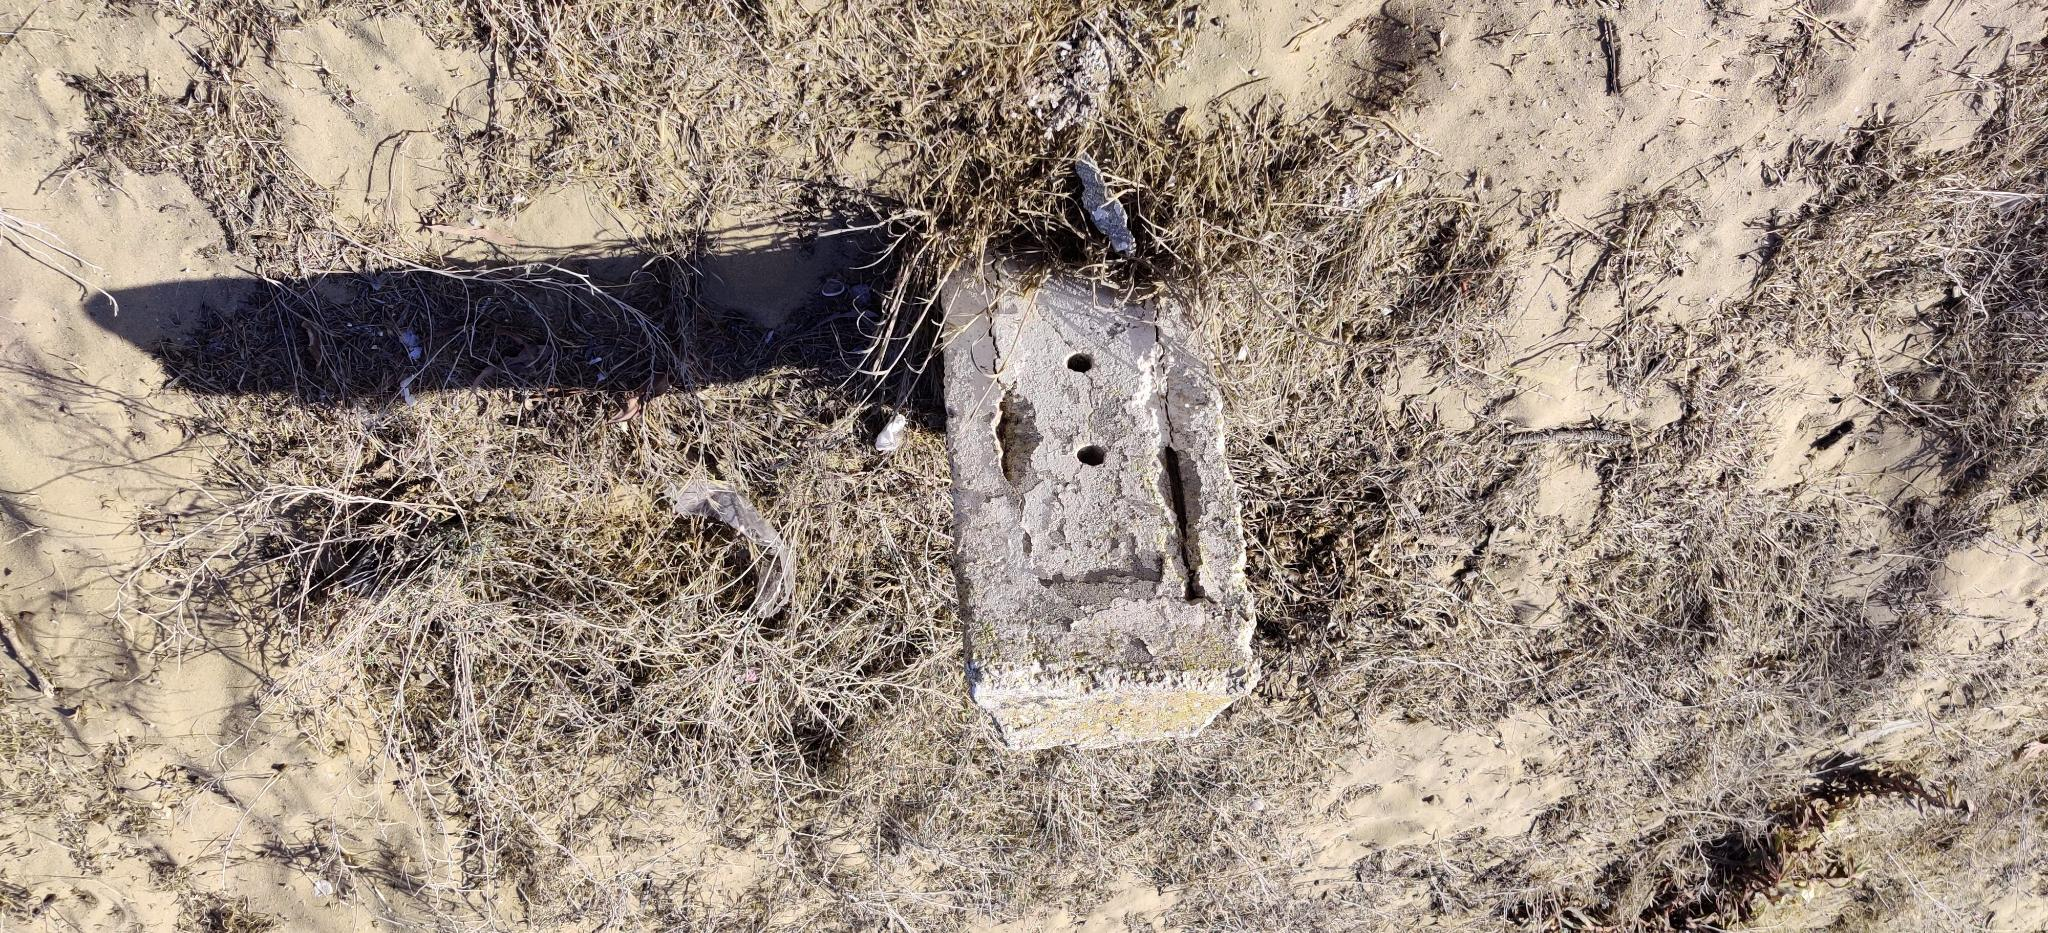Metal: (1070, 139, 1144, 261)
Plastic: (658, 464, 806, 619)
Trash: (870, 402, 917, 468), (819, 269, 845, 307)
